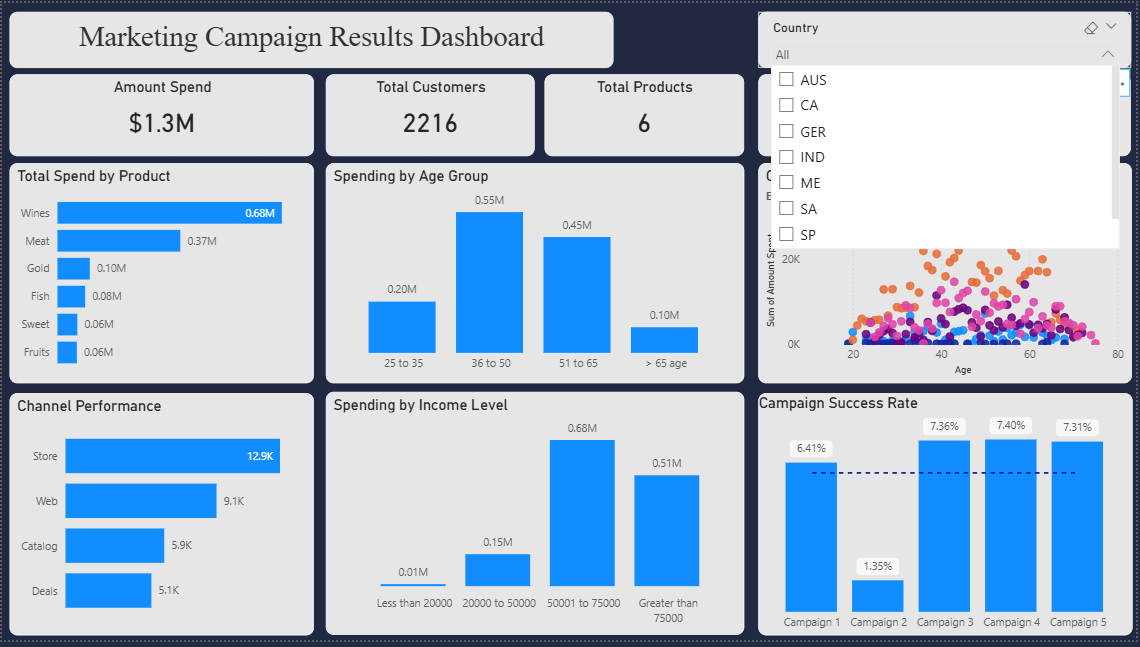

This screenshot's page, from the dashboard's own definition file:
{"tool":"powerbi","page":{"name":"Page 1","canvas":[1280,720],"ordinal":0},"visuals":[{"type":"card","title":"Total Customers","fields":{"Values":["CountNonNull(marketing_data.ID)"]},"box":[363.6,79.6,234.6,91.9],"z":0},{"type":"card","title":"Total Products","fields":{"Values":["MarketingData.Total Products"]},"box":[609.3,79.6,223.7,91.9],"z":1000},{"type":"card","title":"Average Spend","fields":{"Values":["MarketingData.Avg Spend per Customer"]},"box":[848,79.6,209.9,91.9],"z":2000},{"type":"card","title":"Total Campaign","fields":{"Values":["MarketingData.Total Campaign"]},"box":[1073.1,79.6,193.5,91.9],"z":3000},{"type":"card","title":"Amount Spend  ","fields":{"Values":["MarketingData.Total Revenue"]},"box":[8.2,79.6,341.7,91.9],"z":4000},{"type":"barChart","title":"Total Spend by Product","fields":{"Y":["Products.Total Spend by Product"],"Category":["Products.Product"]},"box":[8.2,179.8,341.7,247],"z":5000},{"type":"barChart","title":"Channel Performance","fields":{"Y":["Channels.Total by Channel"],"Category":["Channels.Channel"]},"box":[8.2,437.7,341.7,271.7],"z":6000},{"type":"textbox","box":[8.2,9.6,677.9,63.1],"z":7000},{"type":"columnChart","title":"Spending by Age Group","fields":{"Y":["MarketingData.Amount Spent"],"Category":["MarketingData.Age Group"]},"box":[363.6,179.8,469.3,247],"z":8000},{"type":"columnChart","title":"Spending by Income Level","fields":{"Y":["MarketingData.Amount Spent"],"Category":["MarketingData.Income brackets"]},"box":[363.6,436.4,469.3,273.1],"z":9000},{"type":"scatterChart","title":"Customer Spending by Age and Education","fields":{"Y":["Sum(MarketingData.Amount Spent )"],"X":["MarketingData.Age"],"Series":["MarketingData.Education"]},"box":[847.7,180,419.2,246.9],"z":10000},{"type":"lineStackedColumnComboChart","title":"Campaign Success Rate","fields":{"Category":["Campaigns.Campaign"],"Y":["Campaigns.Campaign Success Rate"],"Y2":["Campaigns.Overall Campaign Success Rate"]},"box":[848,437.7,419.9,271.7],"z":11000},{"type":"slicer","fields":{"Values":["MarketingData.Country"]},"box":[848,9.6,418.5,63.1],"z":12000}]}

Visuals, with their boxes in screenshot pixels (x1, y1, x2, y2), scaled from the page's 1280x720 canvas onto the 1140x647 screenshot:
"Total Customers" card: (left=324, top=72, right=533, bottom=154)
"Total Products" card: (left=543, top=72, right=742, bottom=154)
"Average Spend" card: (left=755, top=72, right=942, bottom=154)
"Total Campaign" card: (left=956, top=72, right=1128, bottom=154)
"Amount Spend  " card: (left=7, top=72, right=312, bottom=154)
"Total Spend by Product" barChart: (left=7, top=162, right=312, bottom=384)
"Channel Performance" barChart: (left=7, top=393, right=312, bottom=637)
textbox: (left=7, top=9, right=611, bottom=65)
"Spending by Age Group" columnChart: (left=324, top=162, right=742, bottom=384)
"Spending by Income Level" columnChart: (left=324, top=392, right=742, bottom=638)
"Customer Spending by Age and Education" scatterChart: (left=755, top=162, right=1128, bottom=384)
"Campaign Success Rate" lineStackedColumnComboChart: (left=755, top=393, right=1129, bottom=637)
slicer - MarketingData.Country: (left=755, top=9, right=1128, bottom=65)
